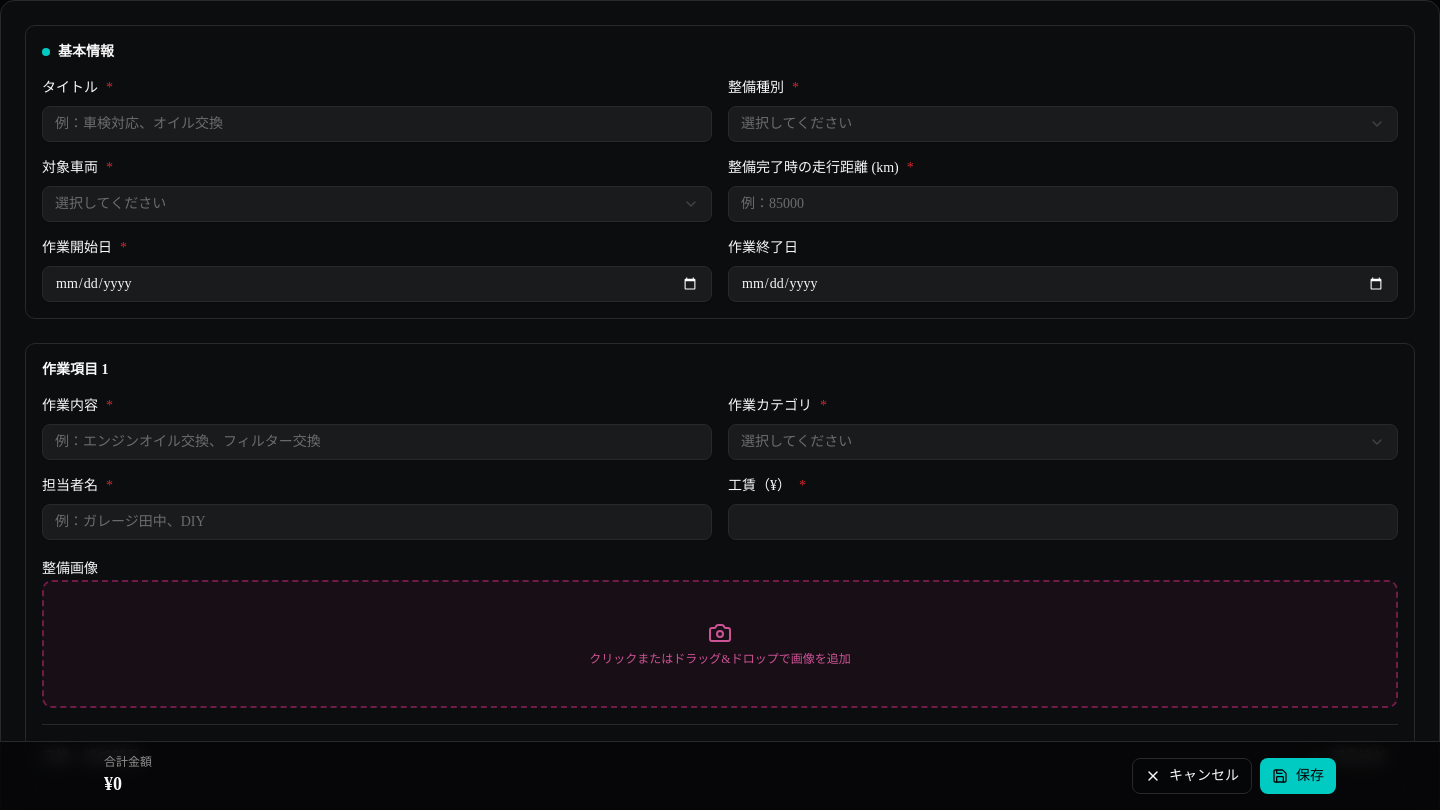
Test: MaintenanceRecordRegisterContent › 変更がある状態でキャンセルすると確認ダイアログが表示される
Type "車検対応" into the field with placeholder "例：車検対応、オイル交換".
click(377, 124); type("車検対応")  # box x1=42 y1=106 x2=712 y2=142
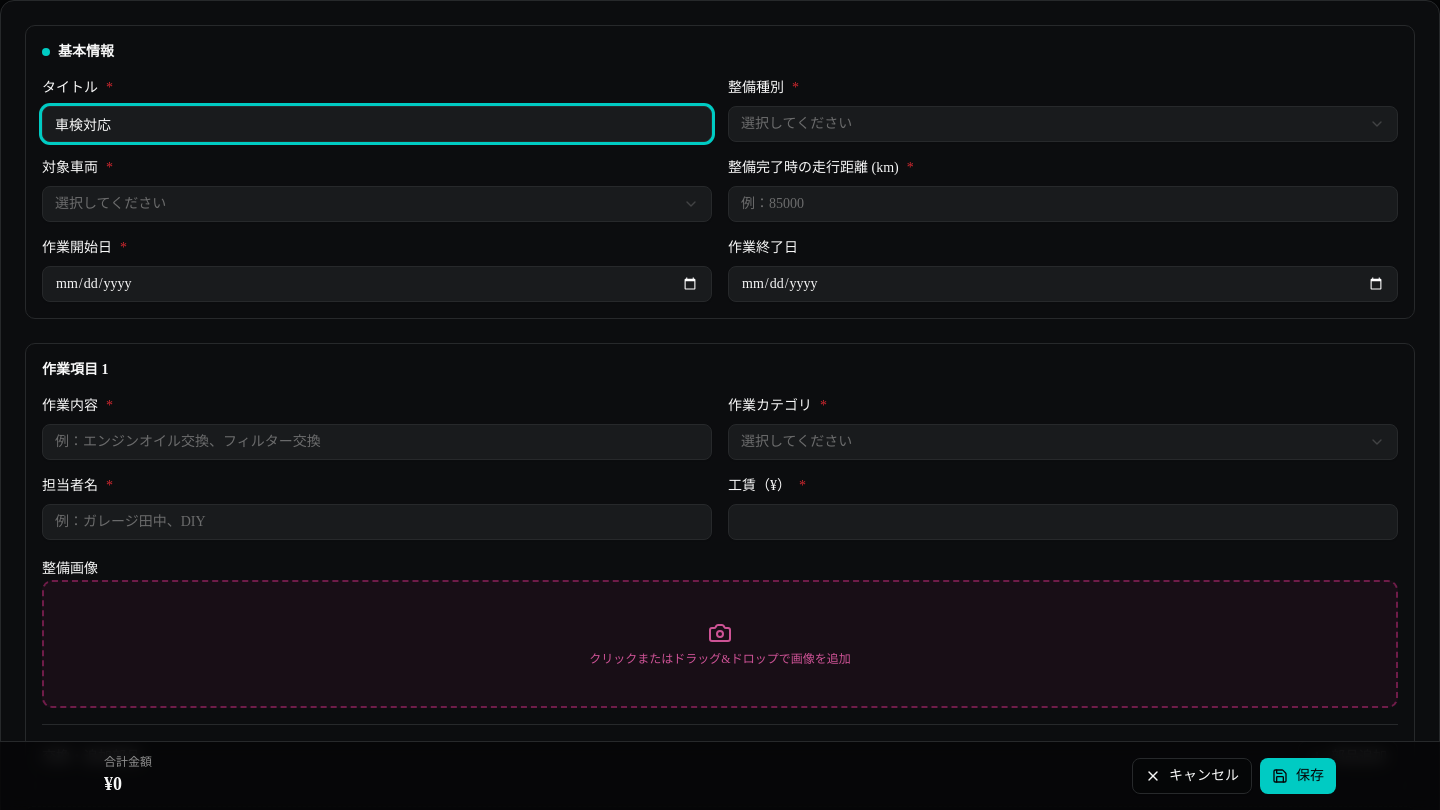
Click the button "キャンセル".
click(1192, 776)  # box x1=1132 y1=758 x2=1252 y2=794
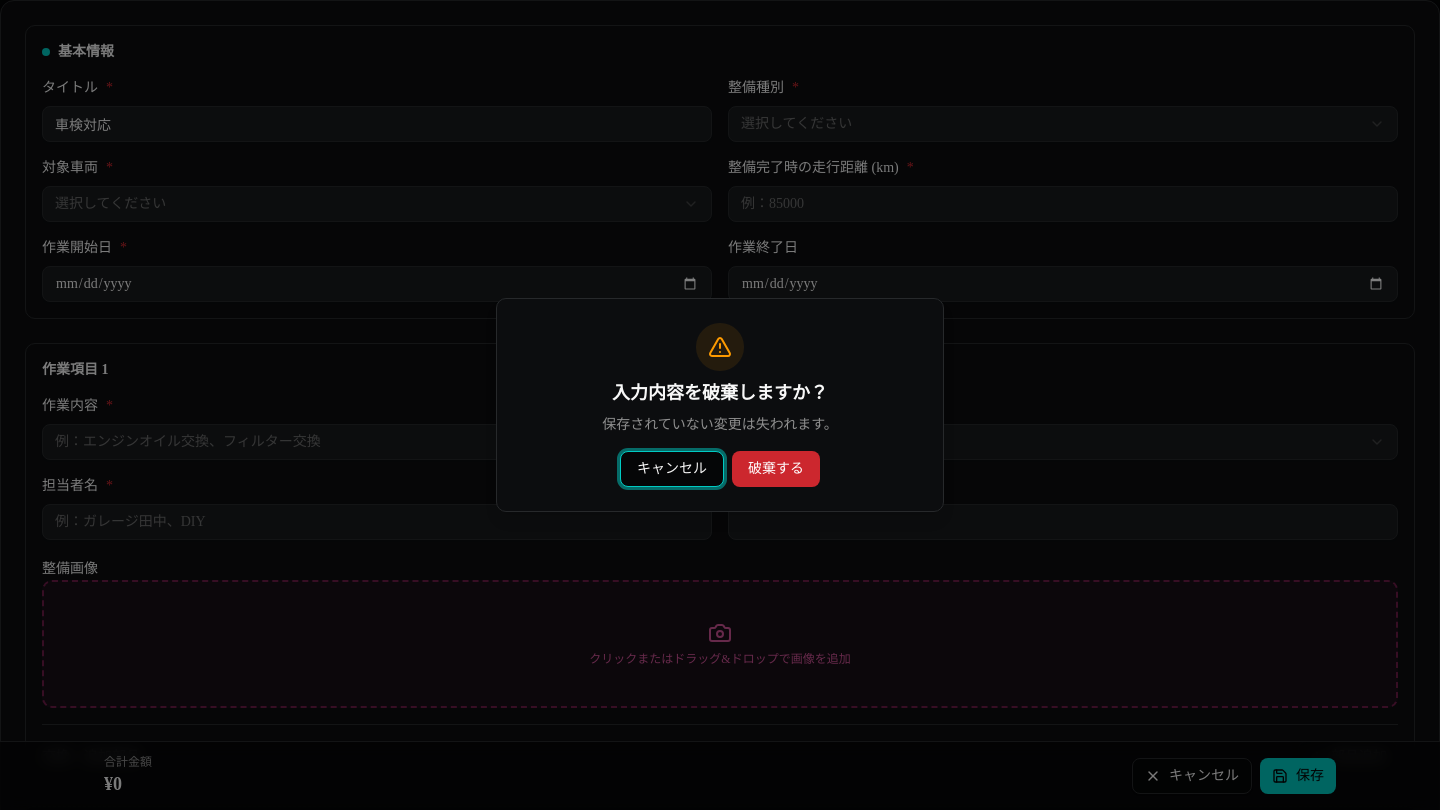
expect the heading "入力内容を破棄しますか？" is shown: met, box x1=612 y1=379 x2=828 y2=407
